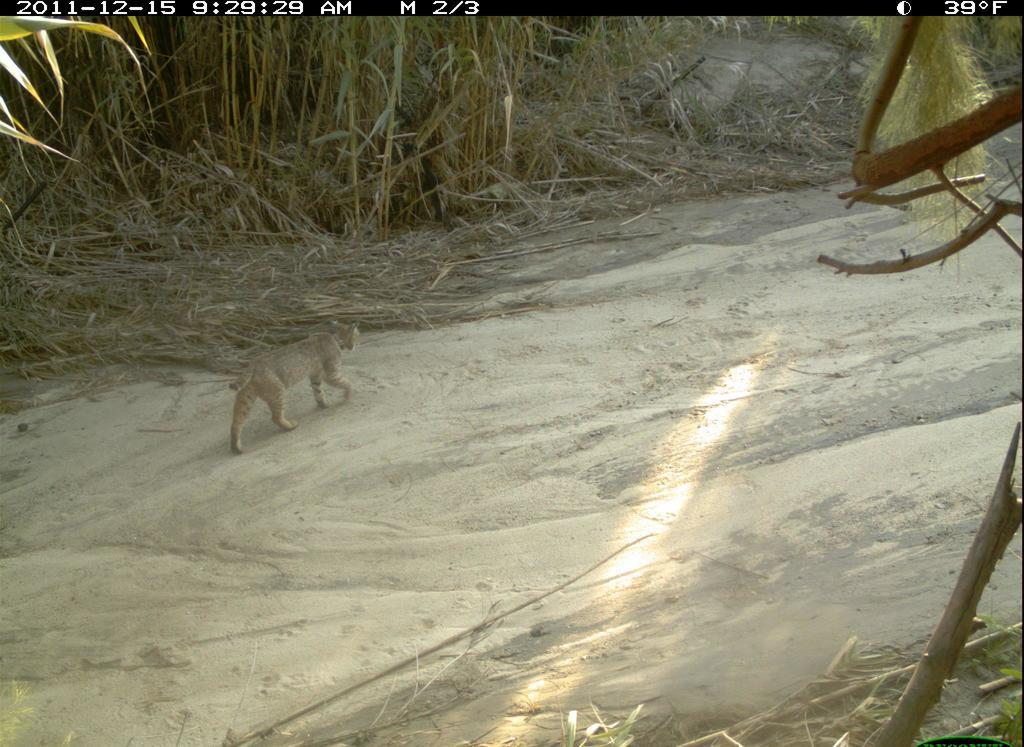bobcat: (228, 315, 365, 461)
